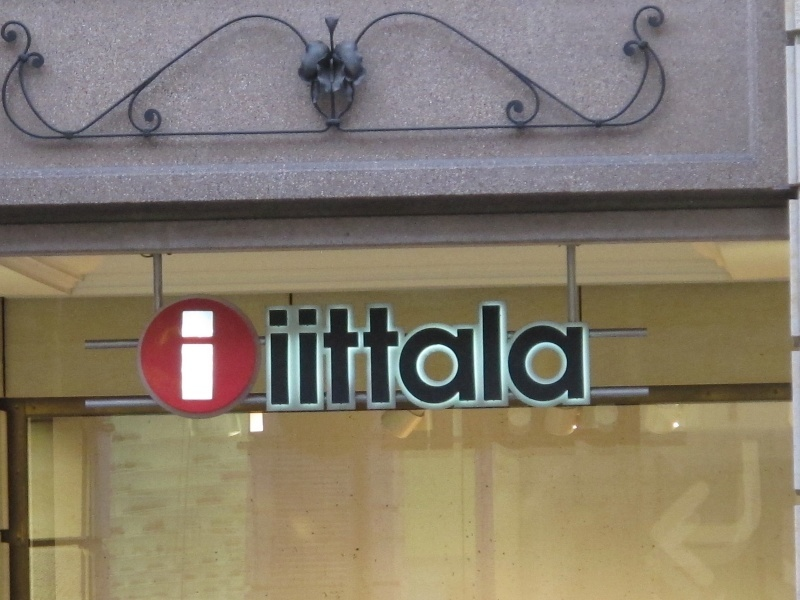text: (273, 300, 288, 411), (289, 300, 304, 411), (305, 300, 320, 411), (321, 300, 336, 411), (337, 300, 352, 411), (353, 300, 368, 411), (369, 300, 384, 411), (385, 300, 400, 411), (401, 300, 416, 411), (417, 300, 432, 411), (433, 300, 448, 411), (449, 300, 464, 411), (465, 300, 480, 411), (481, 300, 496, 411), (497, 300, 512, 411), (513, 300, 528, 411), (529, 300, 544, 411), (545, 300, 560, 411), (561, 300, 576, 411), (577, 300, 592, 411), (193, 312, 208, 402), (181, 312, 192, 402), (267, 300, 272, 411), (209, 312, 214, 402)
